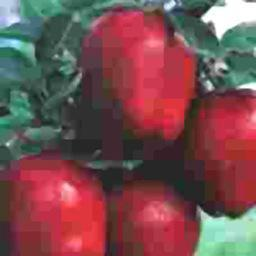apple: (79, 9, 196, 141), (1, 149, 108, 256), (175, 91, 256, 219), (103, 165, 200, 256)
